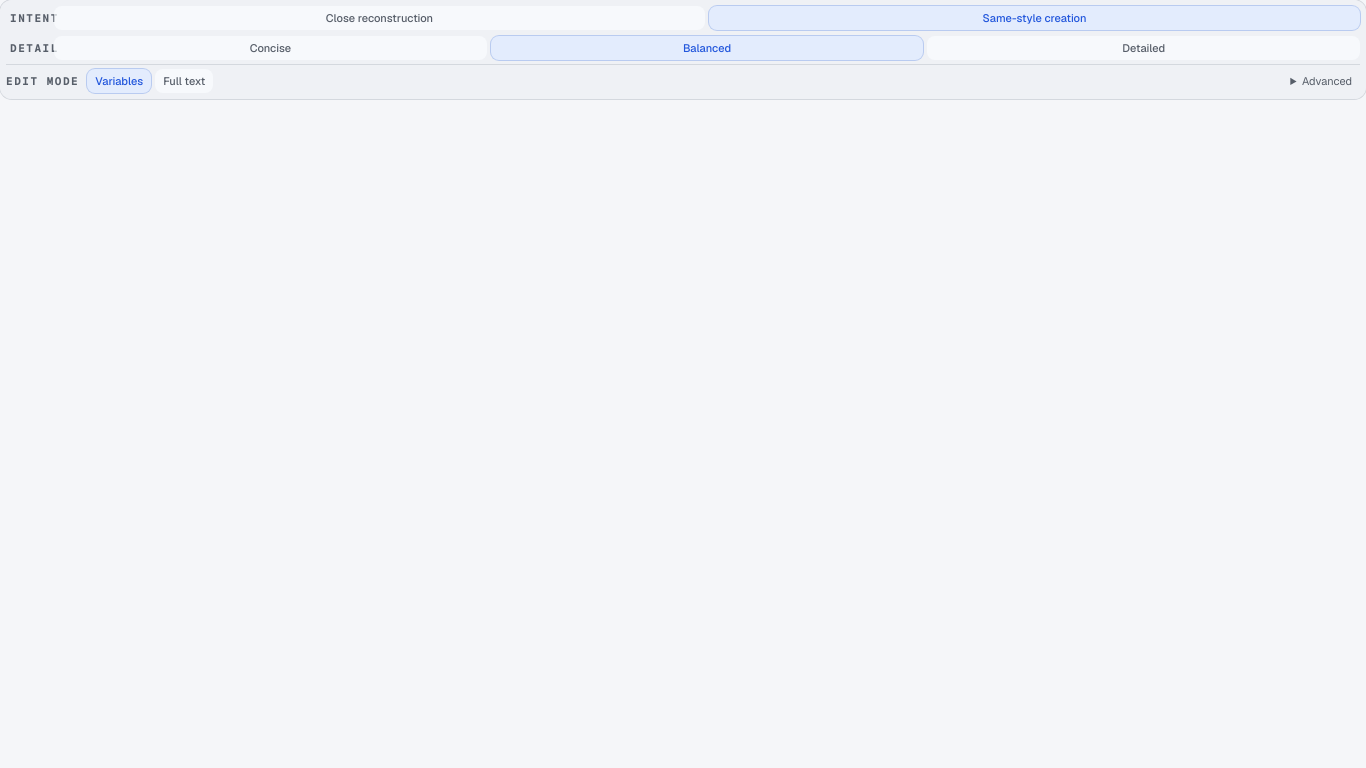
Test: PromptIntentControls › requires confirmation after a manual full-text edit and cancels with zero writes
Click the button with test id "detail-option-concise" at (270, 48), box [54,36,487,60]
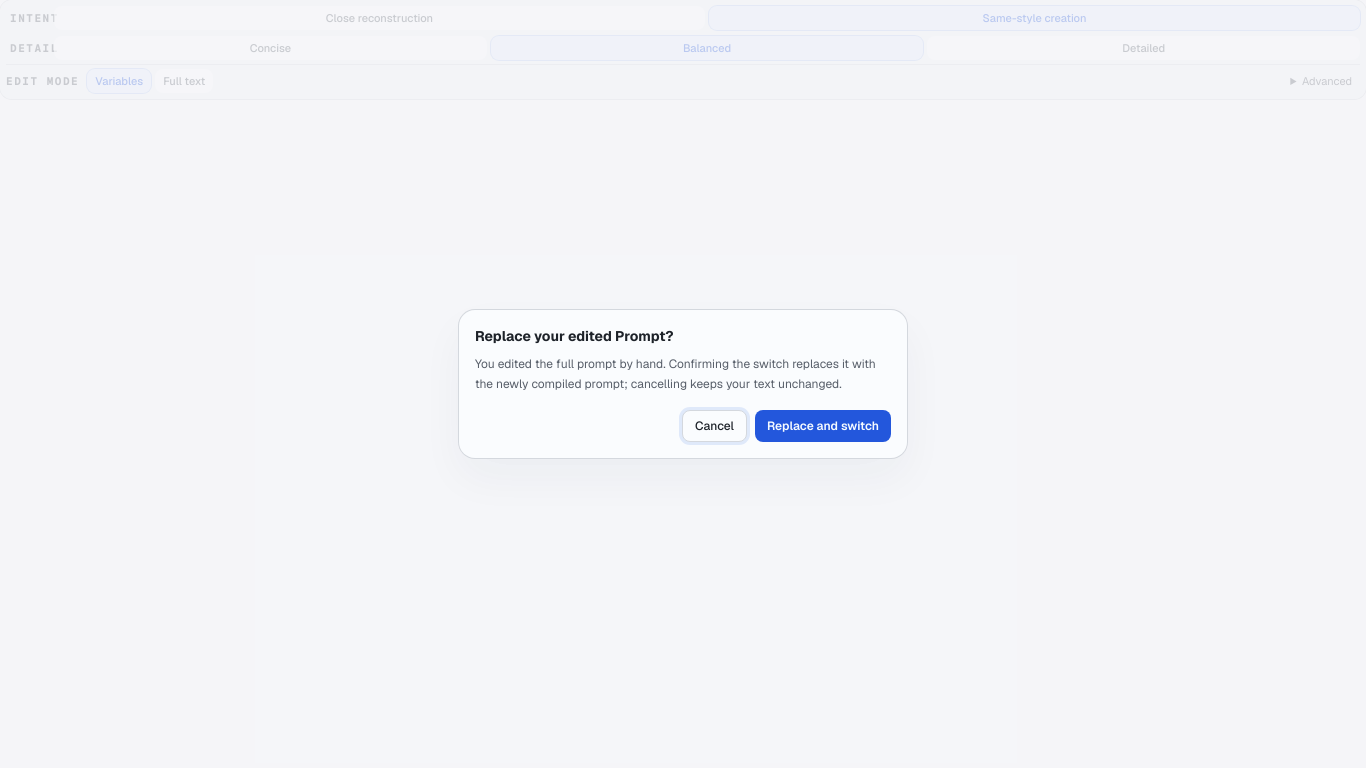
Click the button with test id "prompt-switch-confirm-cancel" at (715, 426), box [682,410,747,442]
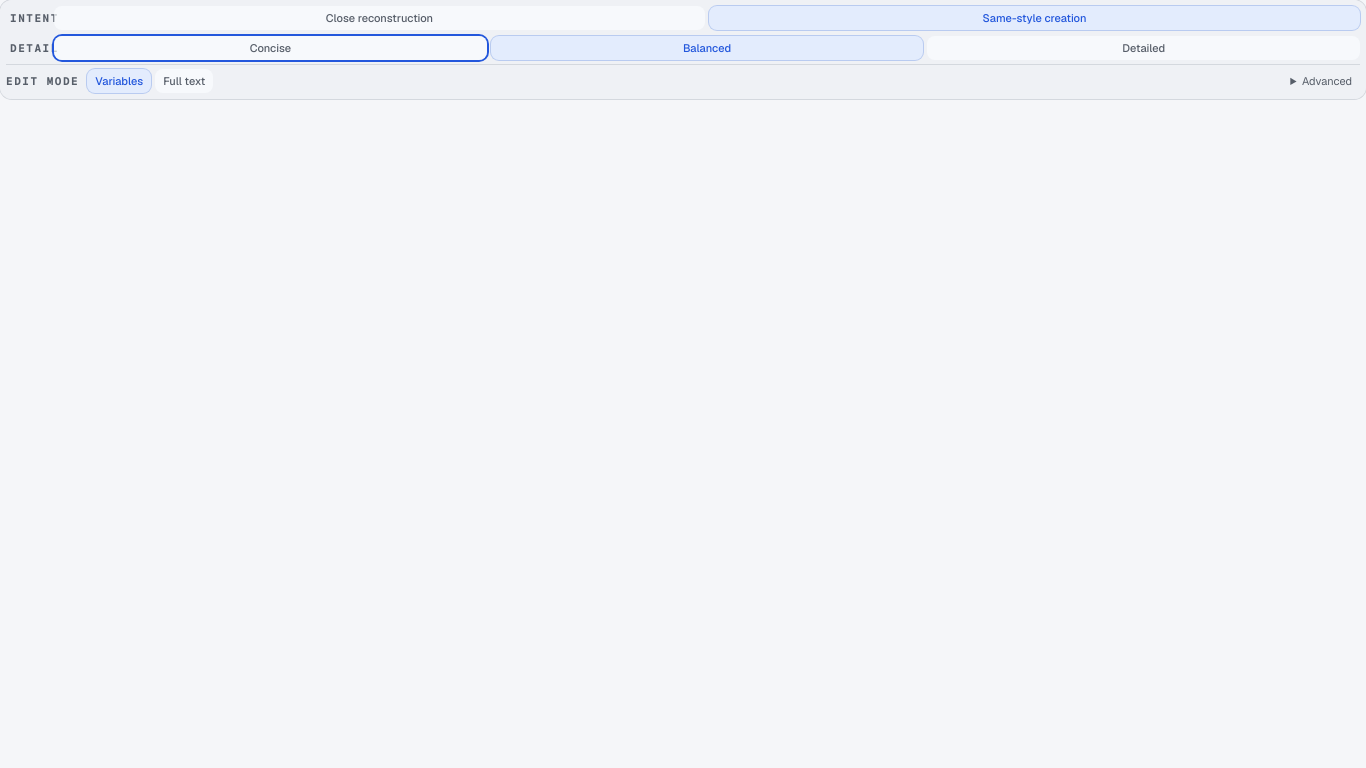
expect the dialog with test id "prompt-switch-confirm-dialog" is gone: met
